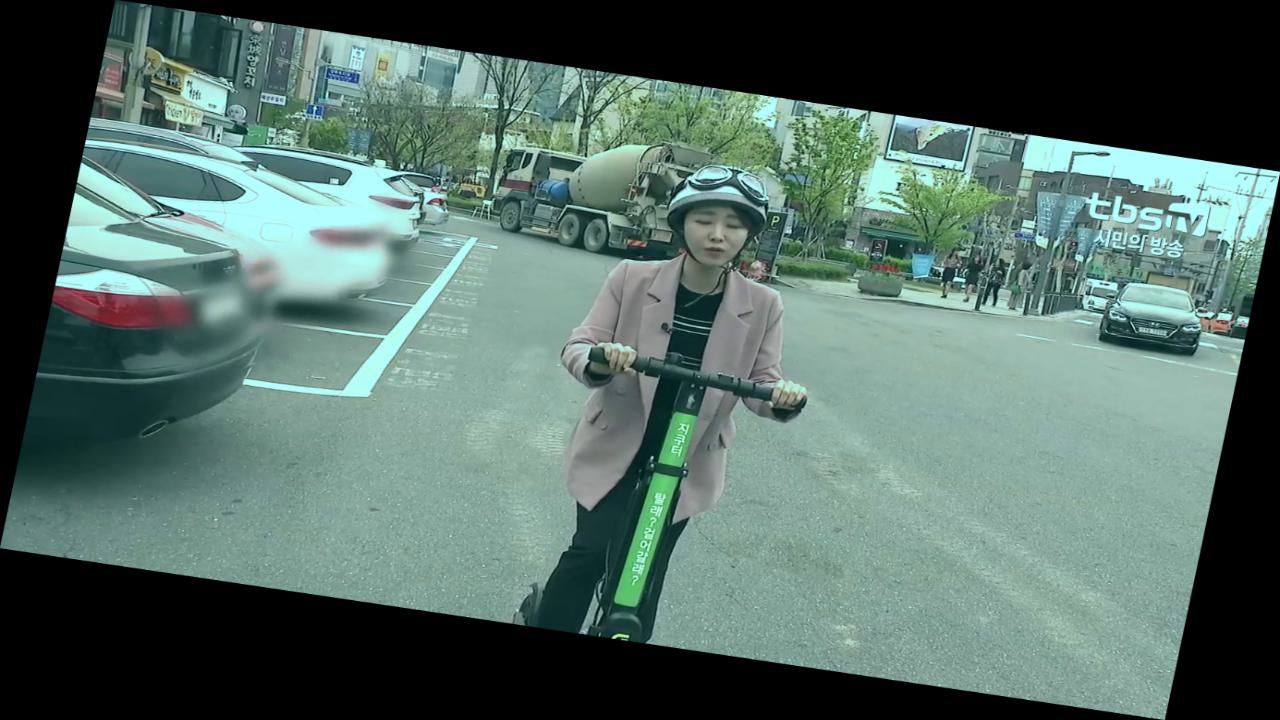helmet: (503, 146, 858, 660)
